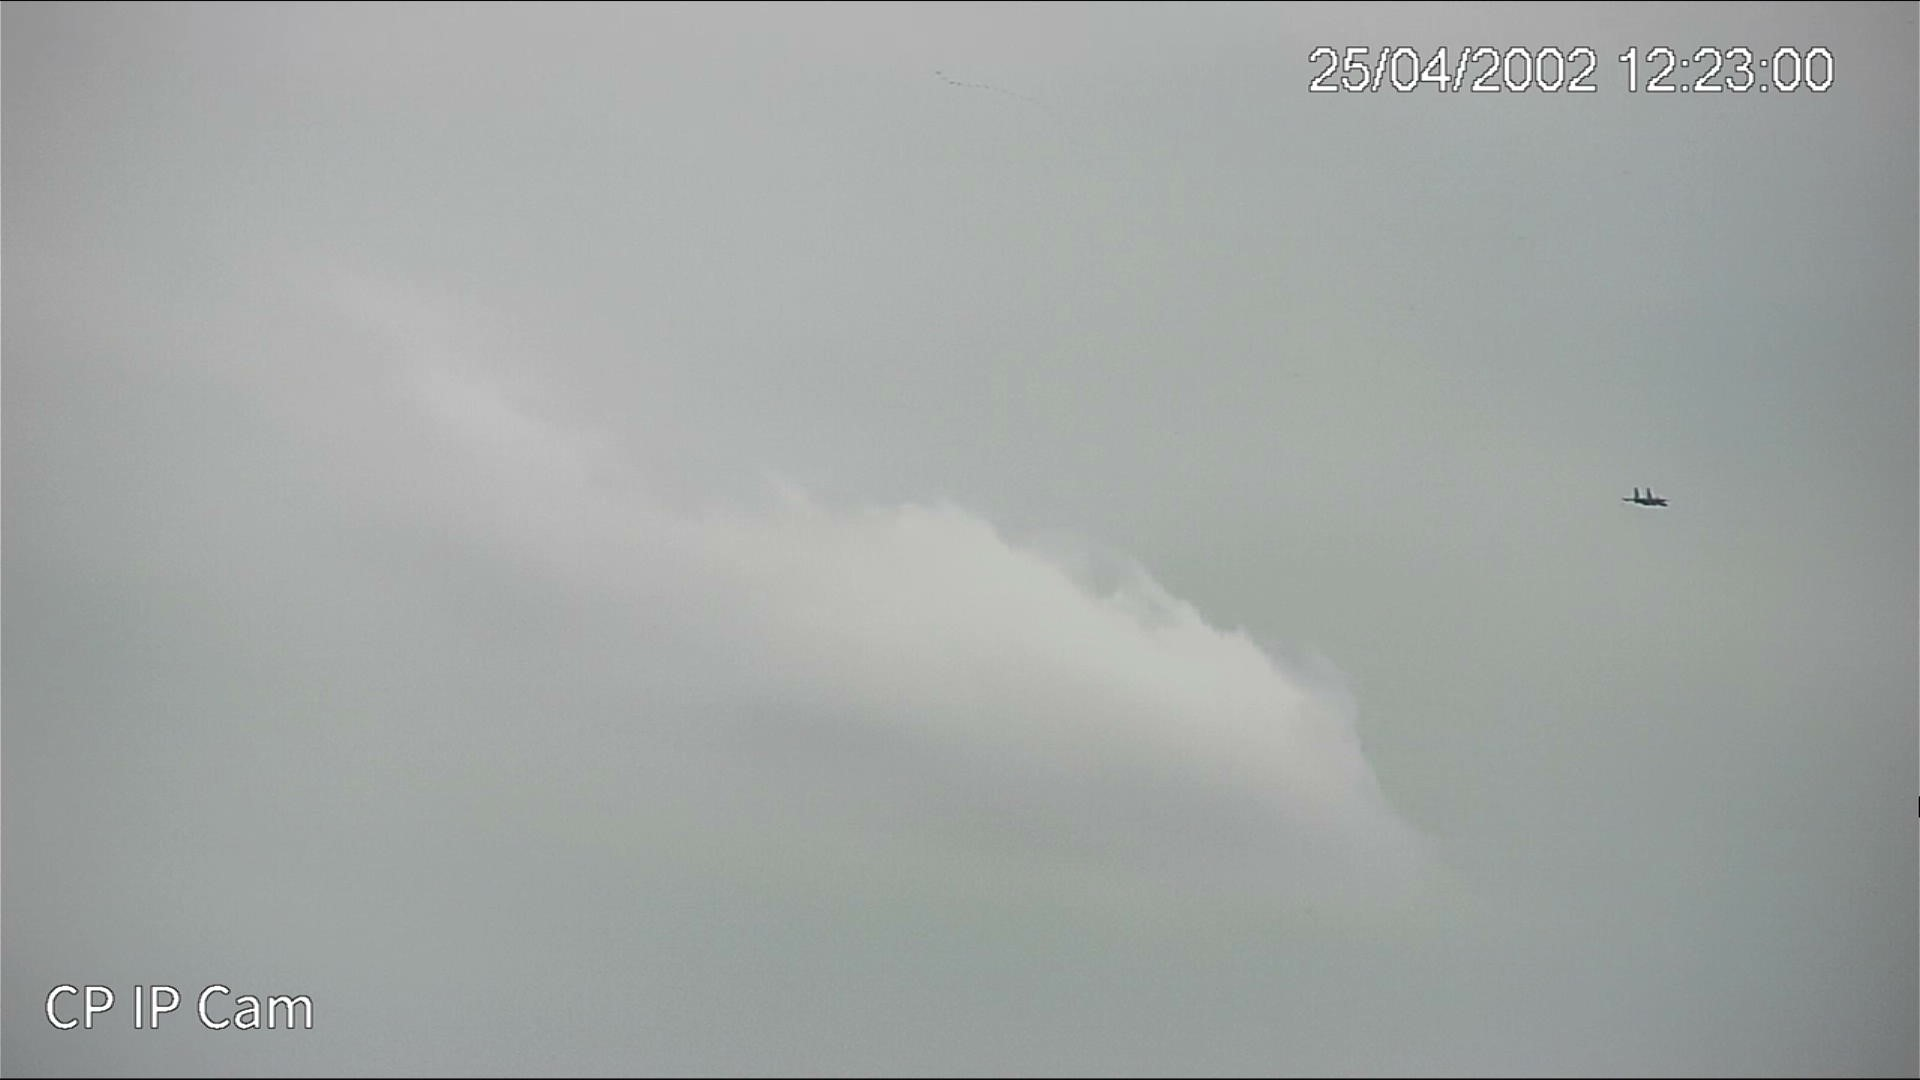SU_30: (1617, 485, 1673, 512)
